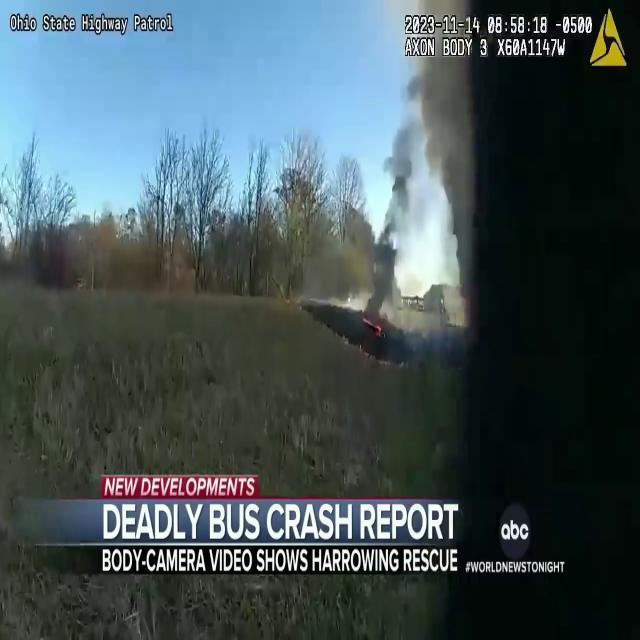Smoke: (396, 14, 474, 202), (372, 106, 422, 327)
